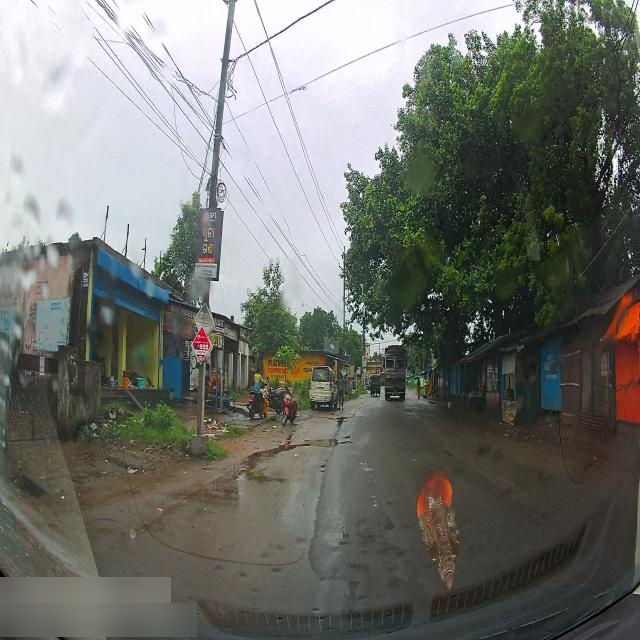pothole: (260, 440, 356, 464), (225, 468, 287, 489)
